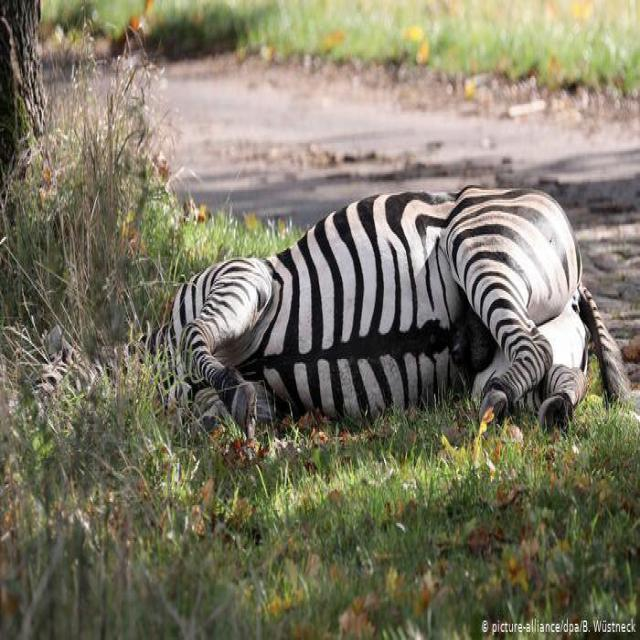zebra: (40, 188, 629, 435)
